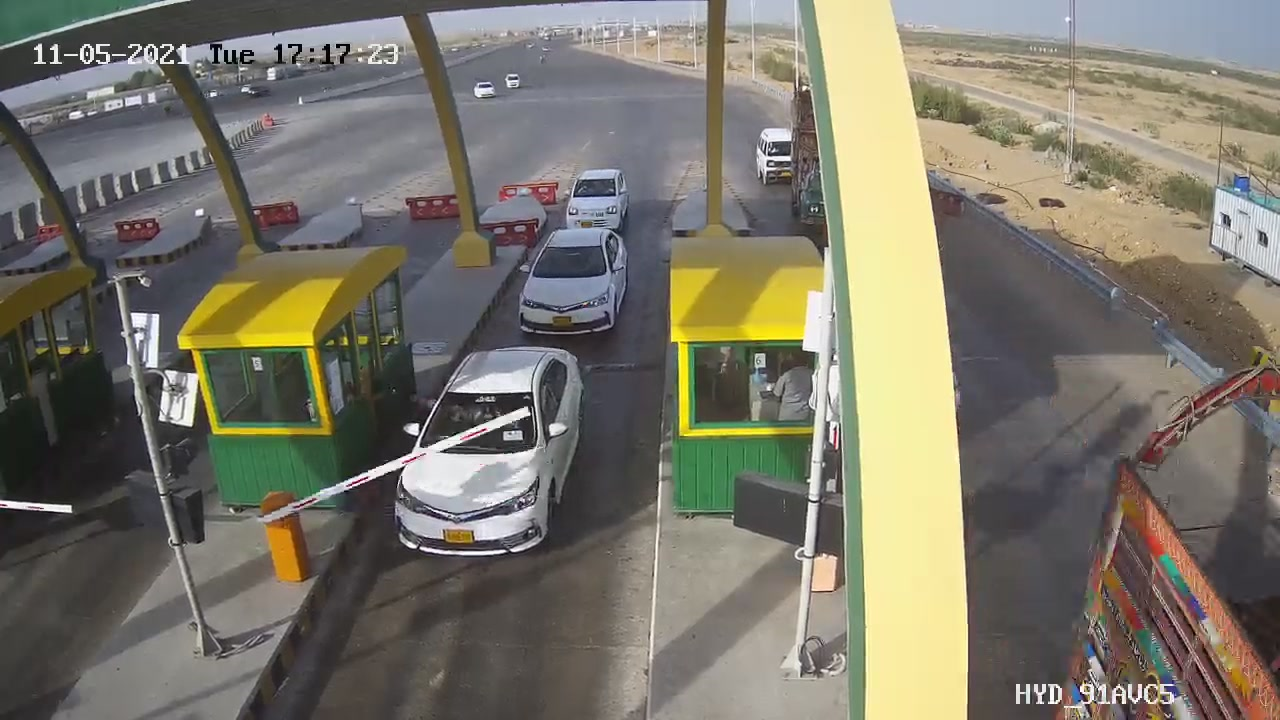F1: (376, 330, 604, 579), (499, 214, 650, 352)
